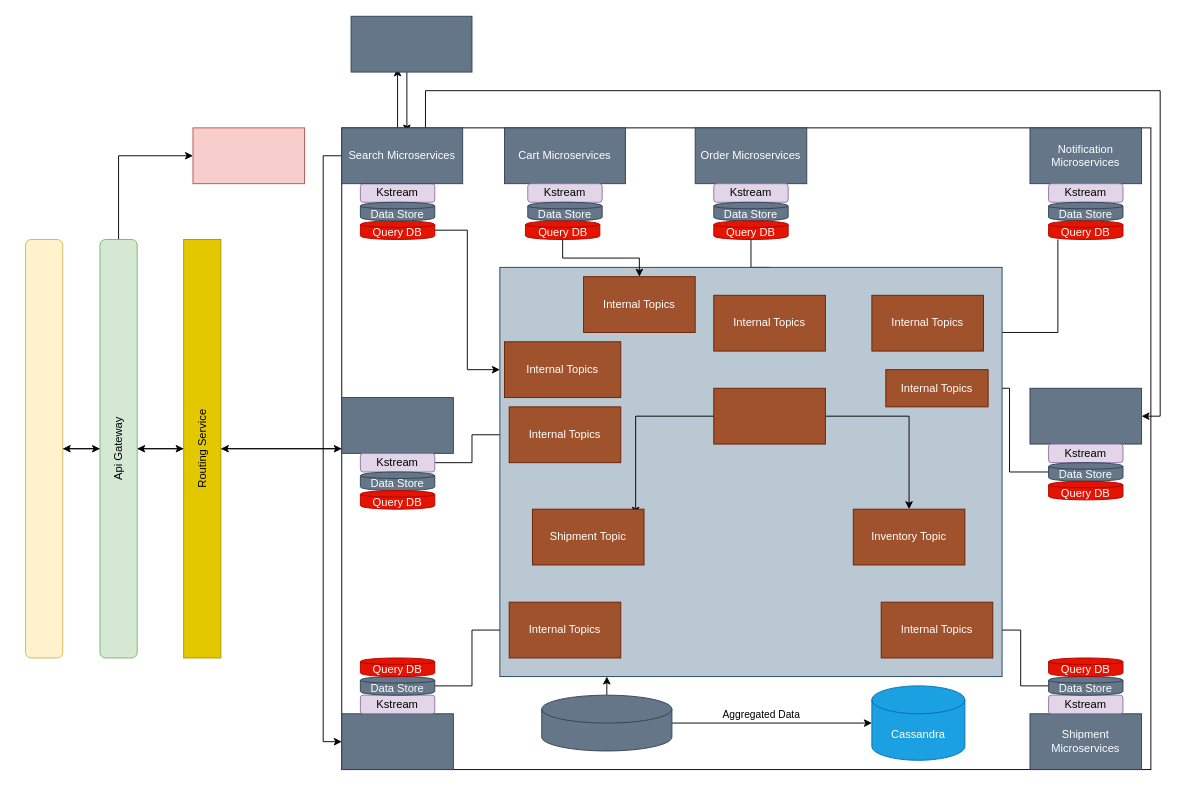
The diagram is 1184 pixels wide and 786 high, and some of its shapes have lost their labels. Here are the shapes that lost their labels. From the top down, the centre of each, then its label:
point (411, 43): User Microservices
point (248, 155): IAM System
point (397, 425): Payment Microservices
point (769, 415): Event Bus Order Topic
point (1085, 415): Inventory Microservices
point (44, 448): UI
point (397, 741): Product Microservices
point (606, 722): Event Store
